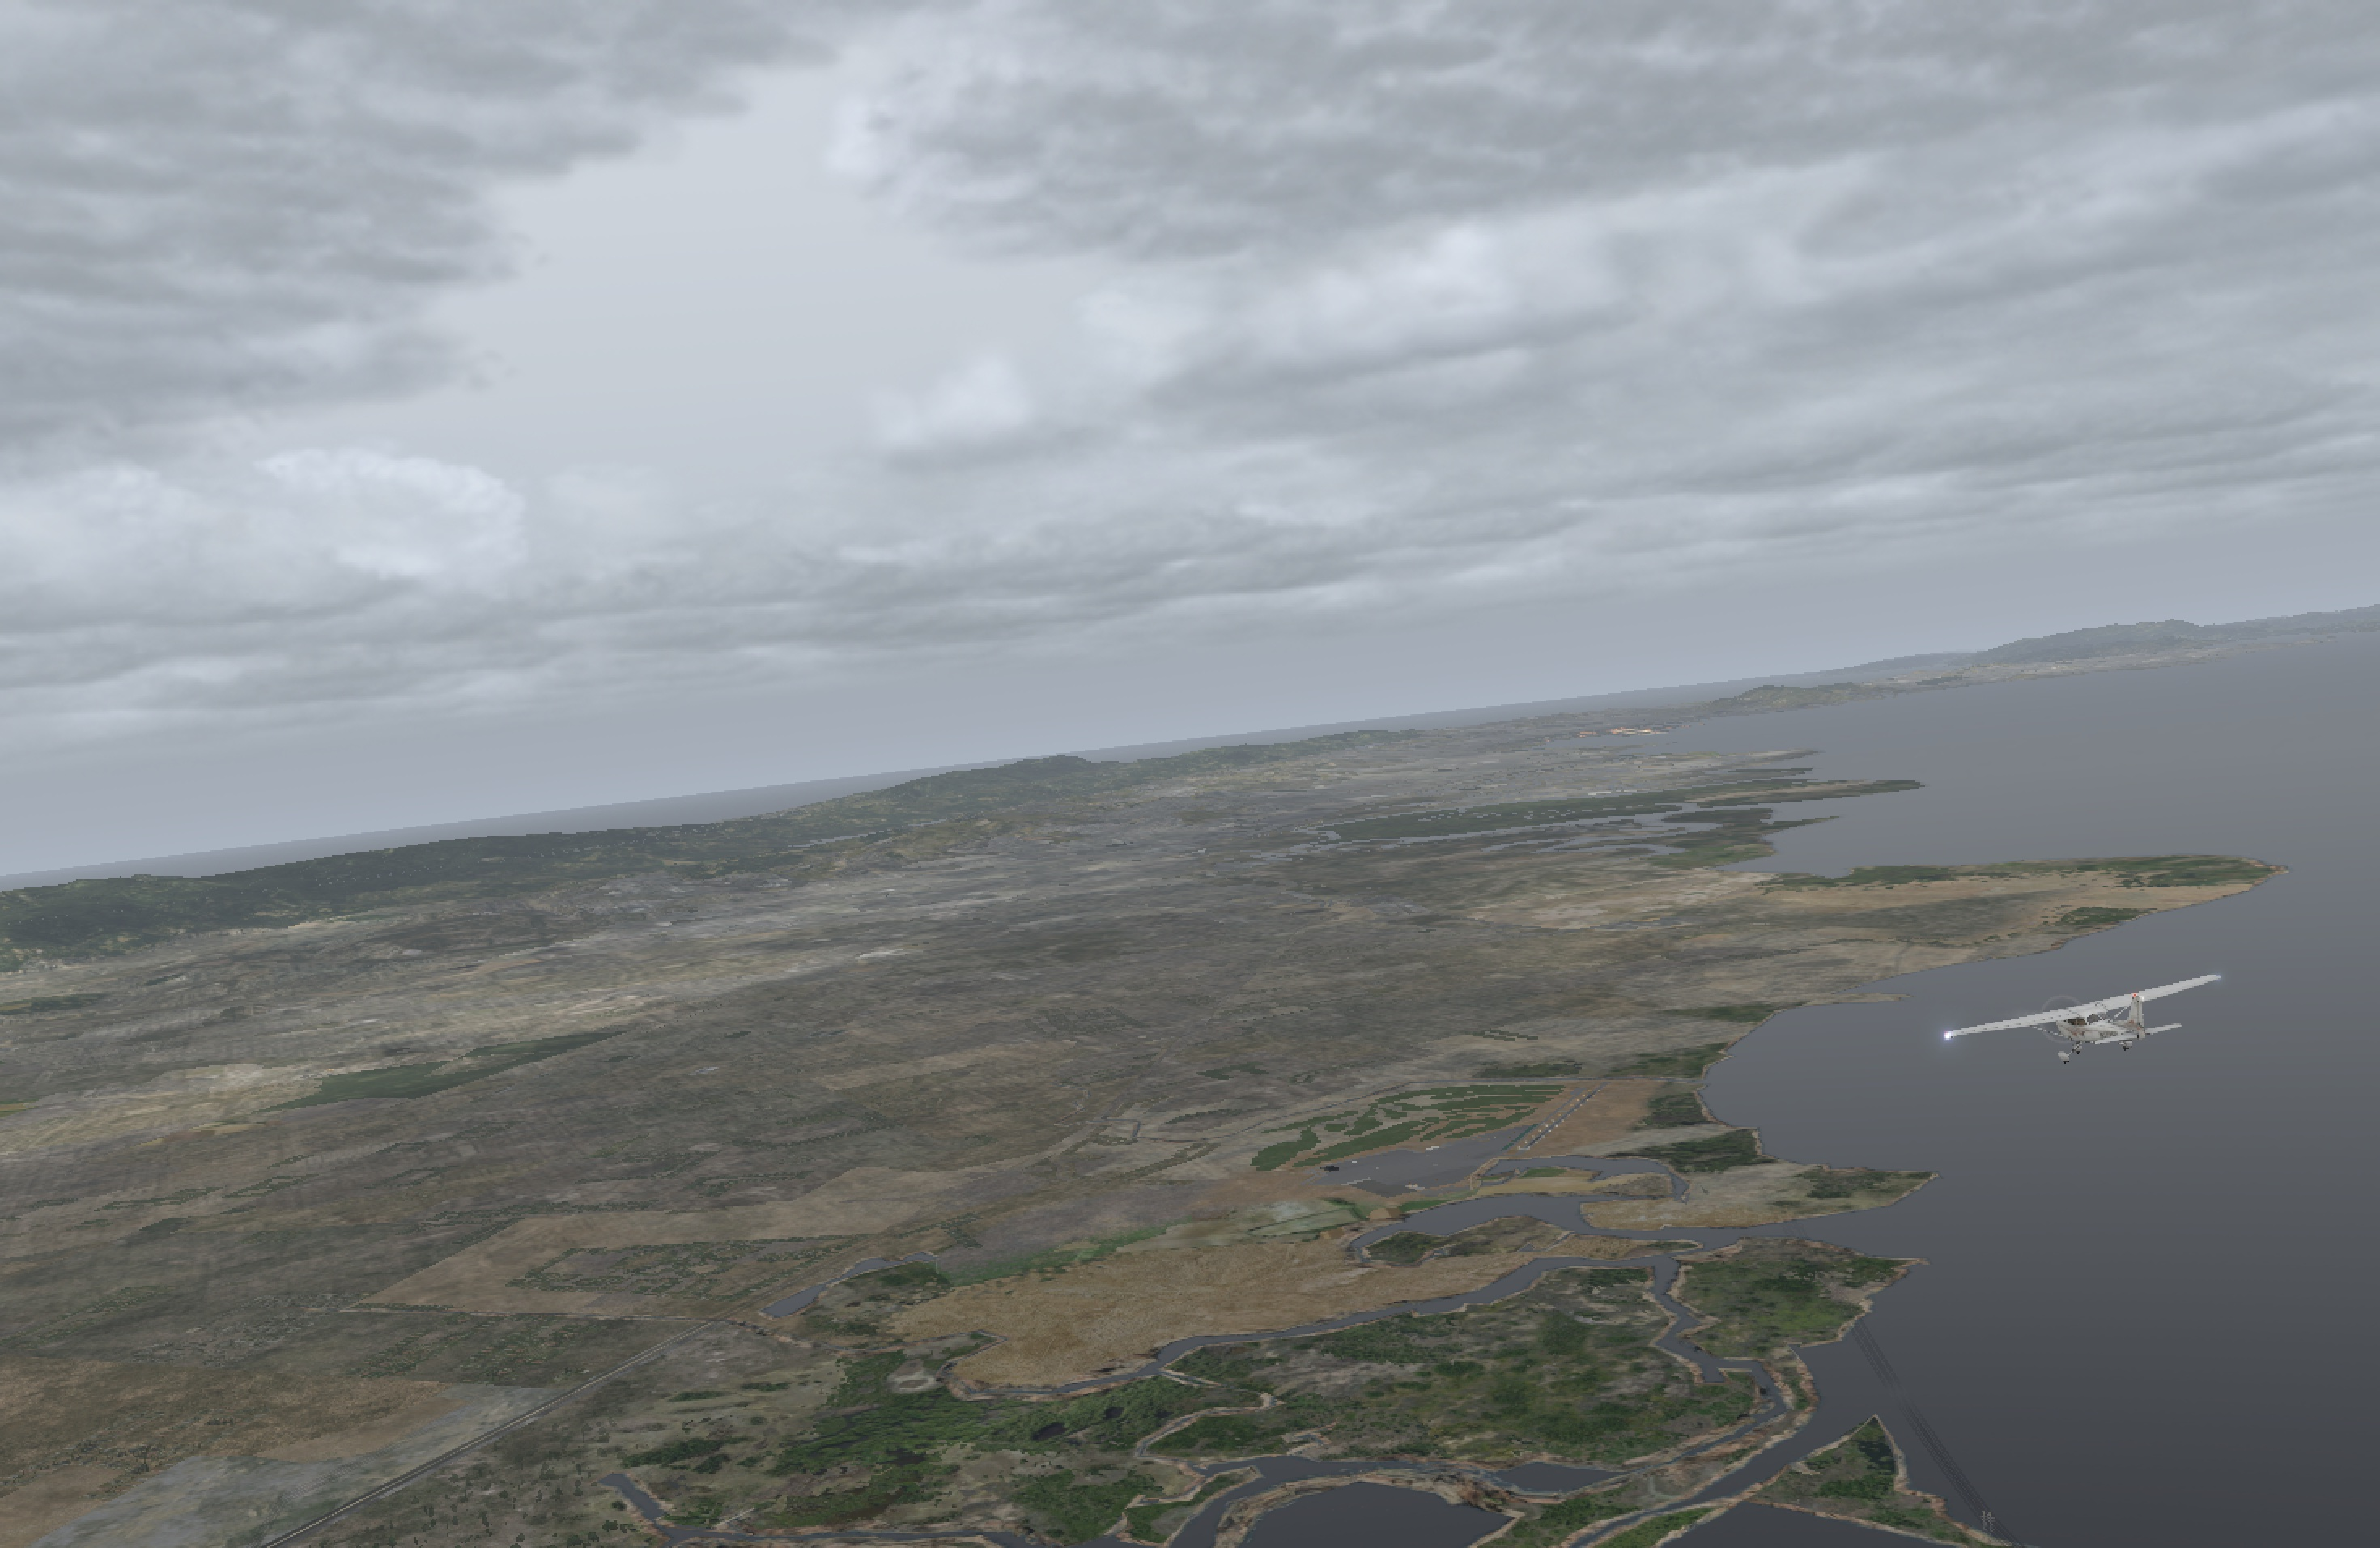aircraft: (1995, 989, 2175, 1057)
